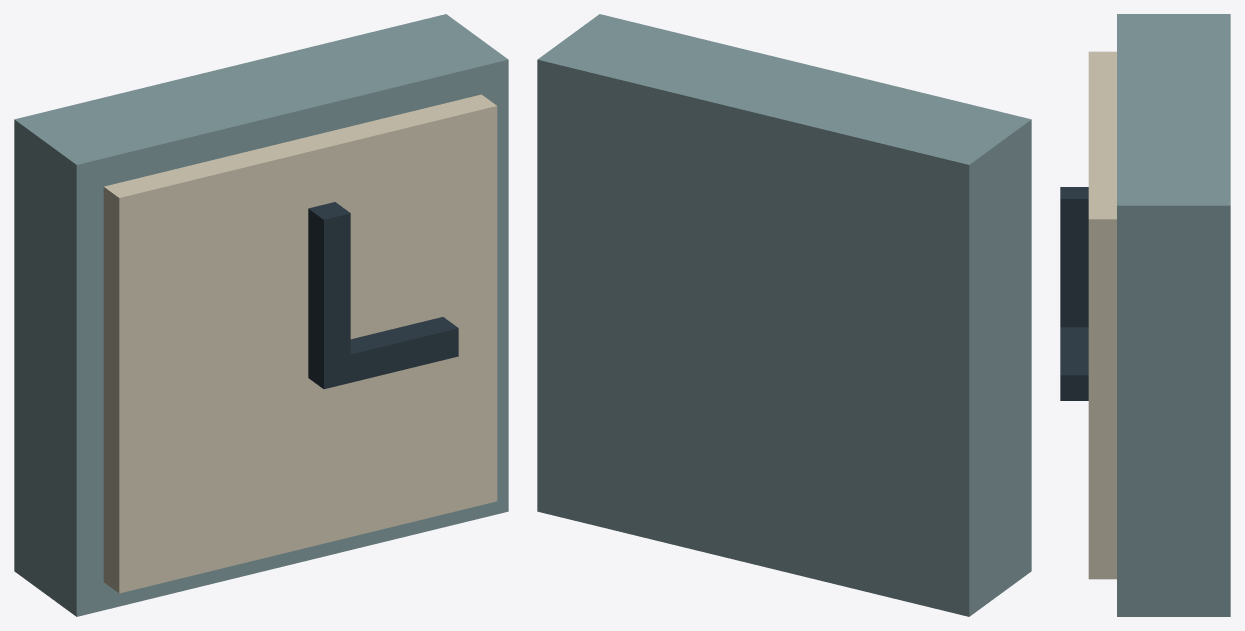
Rendered from iot-01.glb.
3 views of the same model, side by side, from view 1: azimuth 30°, elevation 25°; view 2: azimuth 150°, elevation 25°; view 3: azimuth 270°, elevation 25° (orthographic). The views are drawn at different scales.
Parts seen in each view (by area): view 1: Smart thermostat; view 2: Smart thermostat; view 3: Smart thermostat.
Boxes of the visible parts, <box> form: Smart thermostat: <box>14,14,508,616</box>; Smart thermostat: <box>537,14,1031,616</box>; Smart thermostat: <box>1060,14,1230,616</box>.
Size of the model in its own units: 1.28 by 1.28 by 0.48.
